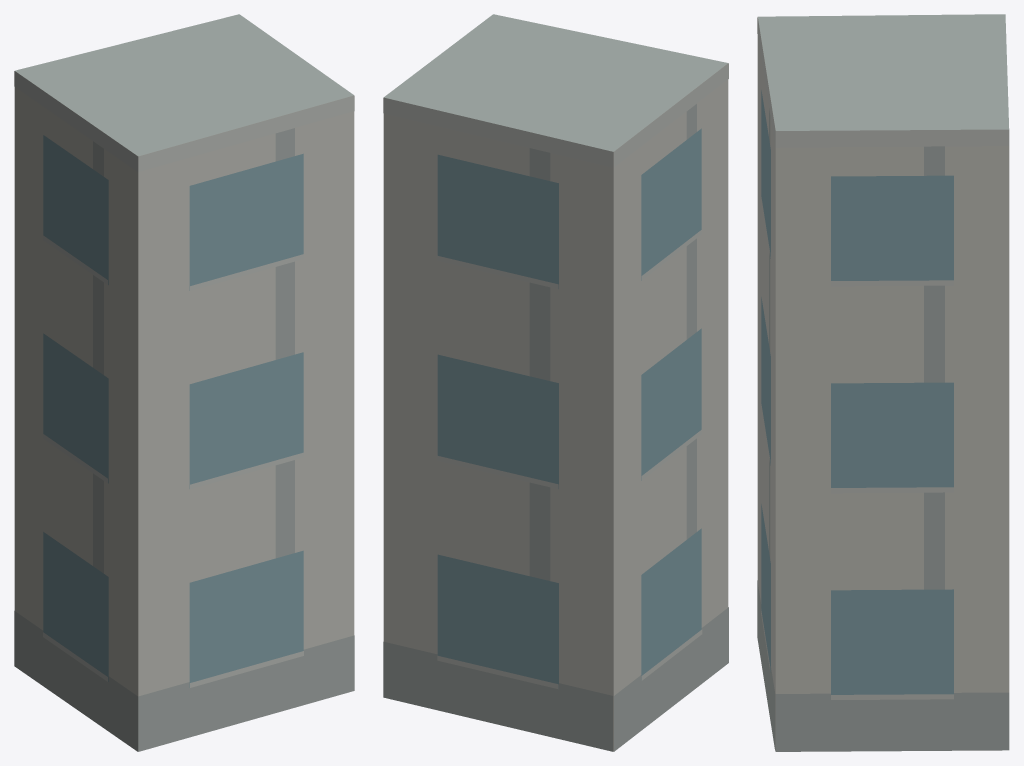
File: survey-upis-32633953.glb
3 renders of one model, left to right at view 1: azimuth 30°, elevation 25°; view 2: azimuth 150°, elevation 25°; view 3: azimuth 270°, elevation 25°, orthographic. The views are drawn at different scales.
Parts seen in each view (by area): view 1: survey-upis-32633953.tmp; view 2: survey-upis-32633953.tmp; view 3: survey-upis-32633953.tmp.
Part boxes in pixels (box(x1,y1,x2,y2)): survey-upis-32633953.tmp: box(14, 14, 354, 751); survey-upis-32633953.tmp: box(383, 14, 728, 751); survey-upis-32633953.tmp: box(757, 14, 1009, 751).
Size of the model in its own units: 3.71 by 9.15 by 3.37.
